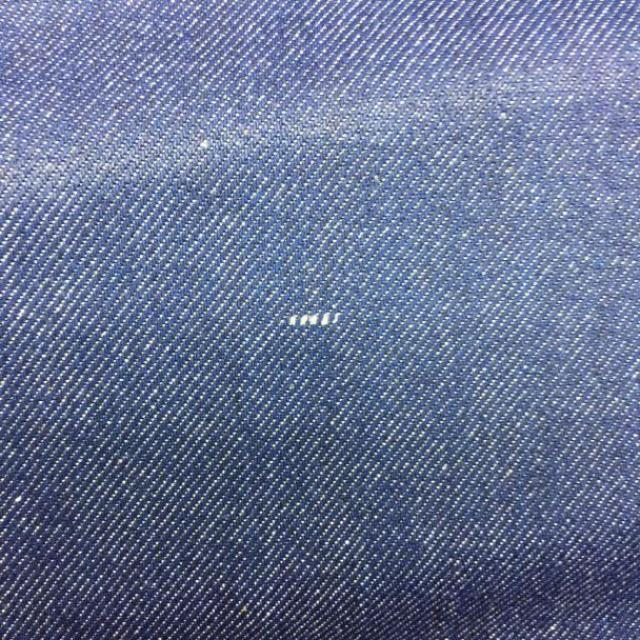Knot: (287, 313, 342, 327)
